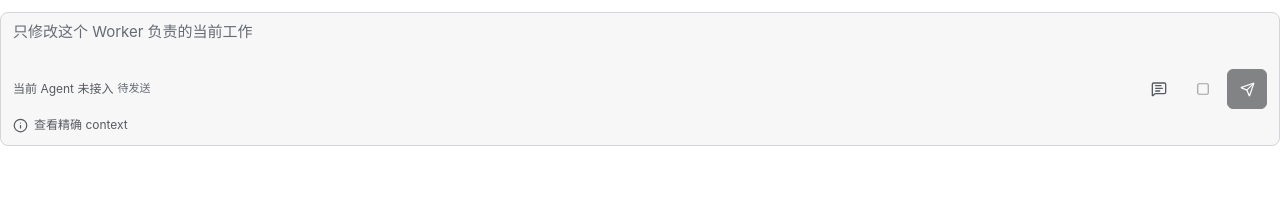
Test case: WorkerComposer › keeps the draft when context changes and does not resend automatically
The width and height of the screenshot is (1280, 203).
Type "先补并发测试" into the text box named "介入这个 Worker" at (640, 43), box x1=13 y1=21 x2=1267 y2=65
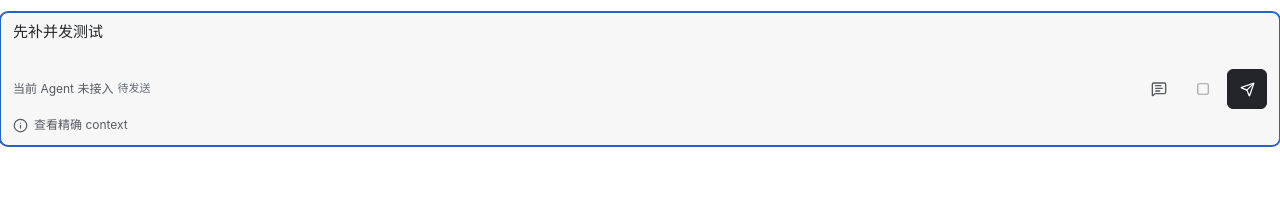
Click the button named "发送到当前 Session" at (1247, 89), box x1=1227 y1=69 x2=1267 y2=109
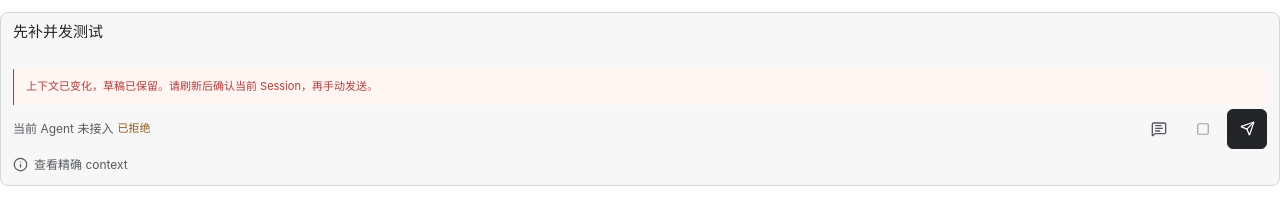
Now the message "上下文已变化，草稿已保留。请刷新后确认当前 Session，再手动发送。" is shown, box x1=13 y1=69 x2=1267 y2=105
